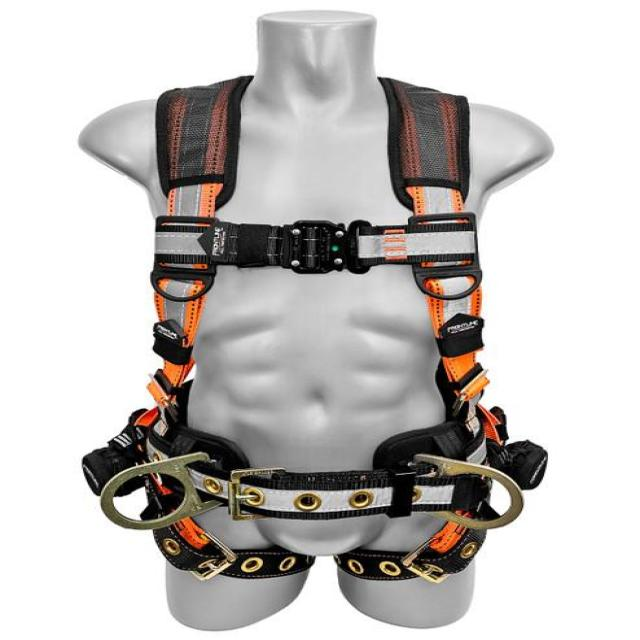Belt: (82, 68, 545, 592)
